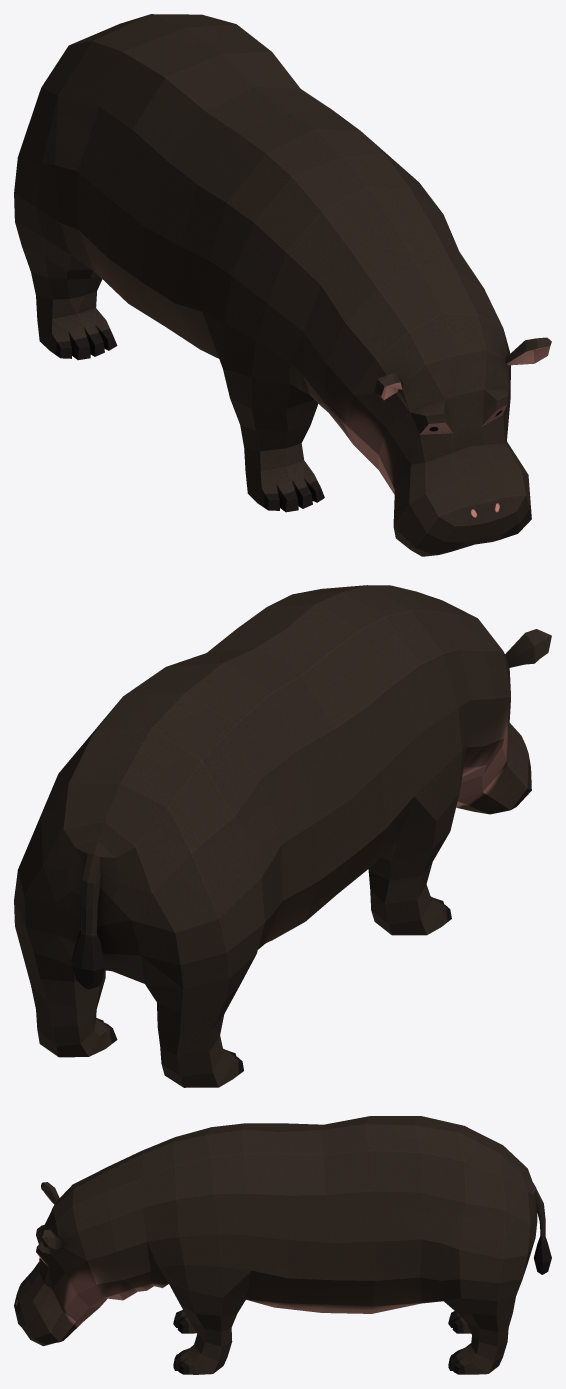
Rendered from cdfb284b-720e-4b1f-88f5-82bce3a2286c.glb.
3 renders of one model, top to bottom at view 1: azimuth 30°, elevation 25°; view 2: azimuth 150°, elevation 25°; view 3: azimuth 270°, elevation 25°, orthographic. The views are drawn at different scales.
Parts seen in each view (by area): view 1: Hippopotamus_Mesh; view 2: Hippopotamus_Mesh; view 3: Hippopotamus_Mesh.
Part boxes in pixels (bbox=[...]): Hippopotamus_Mesh: bbox=[14, 14, 551, 556]; Hippopotamus_Mesh: bbox=[14, 585, 551, 1087]; Hippopotamus_Mesh: bbox=[14, 1116, 551, 1374].
Size of the model in its own units: 5.53 by 7.75 by 17.05.
Materials: 1 (1 with a texture image).
